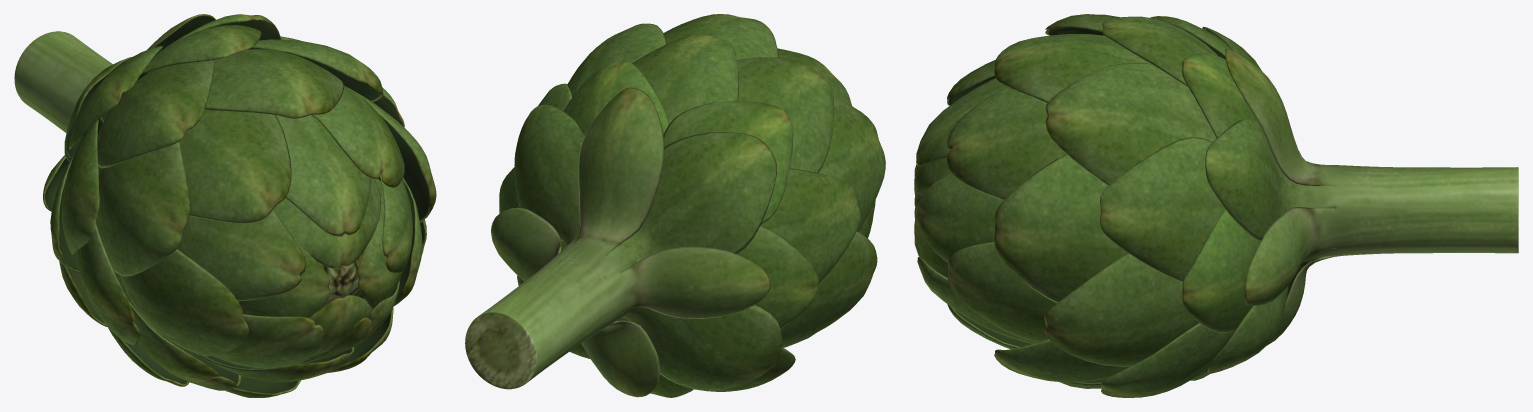
File: Artichoke.glb
3 views of the same model, side by side, from view 1: azimuth 30°, elevation 25°; view 2: azimuth 150°, elevation 25°; view 3: azimuth 270°, elevation 25° (orthographic). The views are drawn at different scales.
Visible parts, largest first — view 1: Node1; view 2: Node1; view 3: Node1.
Part boxes in pixels (left/top/right/bottom): Node1: left=14, top=14, right=436, bottom=397; Node1: left=465, top=14, right=885, bottom=397; Node1: left=914, top=14, right=1518, bottom=397.
Bounding box in the file's own units: 7.02 × 7.07 × 11.08.
Materials: 1 (1 with a texture image).
